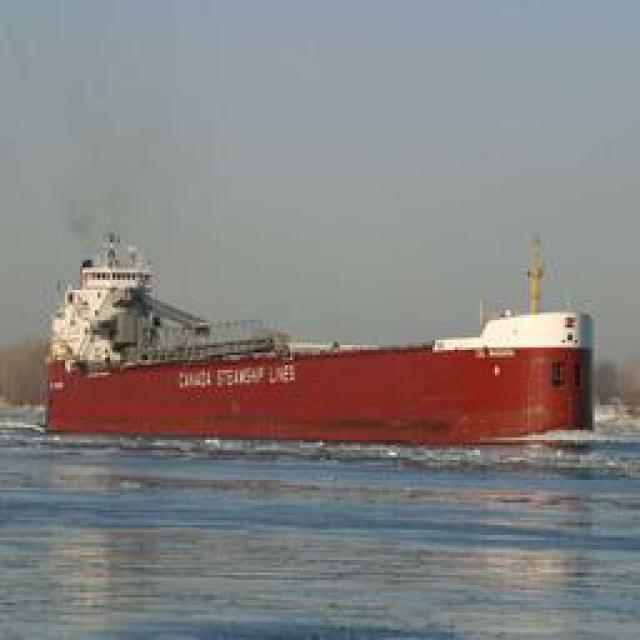Ship: (41, 222, 626, 445)
